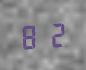eight: (19, 21, 42, 50)
two: (43, 20, 66, 48)
